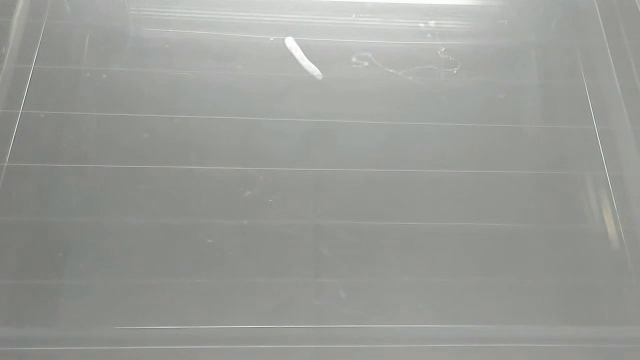alpha: (281, 32, 325, 83)
